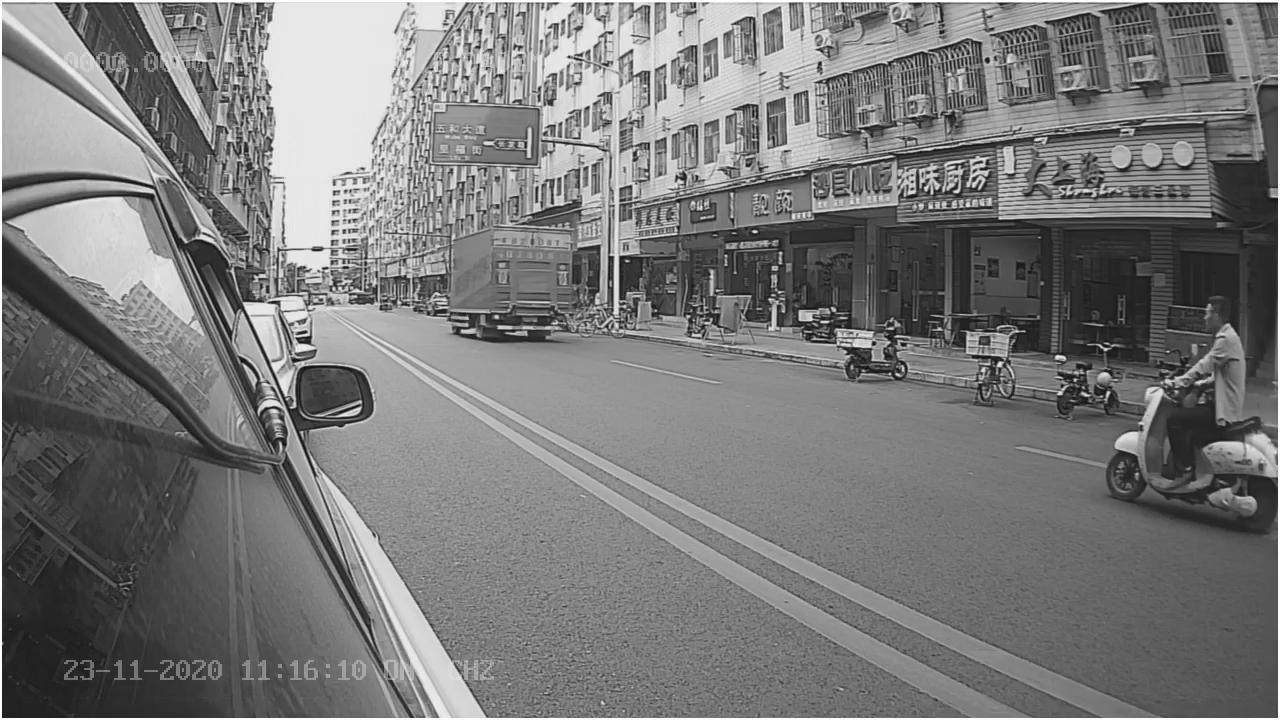person: (1185, 296, 1251, 417)
